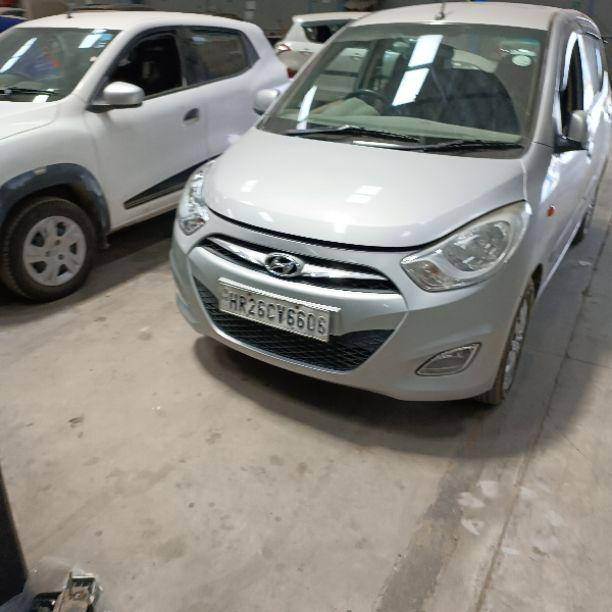license_plate: (216, 277, 331, 343)
